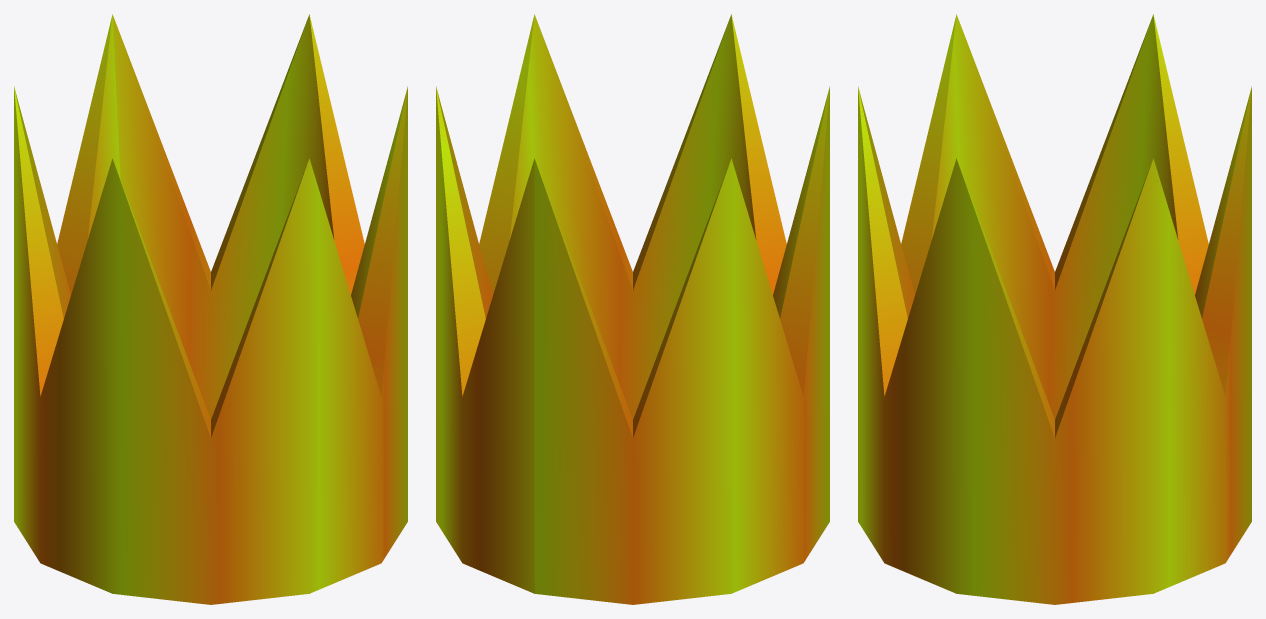
File: Crown.FBX
The picture shows the model from 3 angles, left to right: view 1: azimuth 30°, elevation 25°; view 2: azimuth 150°, elevation 25°; view 3: azimuth 270°, elevation 25°; orthographic projection.
Parts seen in each view (by area): view 1: Tube001; view 2: Tube001; view 3: Tube001.
Boxes of the visible parts, x1,y1,x2,y2 form: Tube001: (14, 14, 407, 604); Tube001: (436, 14, 829, 604); Tube001: (858, 14, 1251, 604).
Size of the model in its own units: 139 by 139 by 170.
